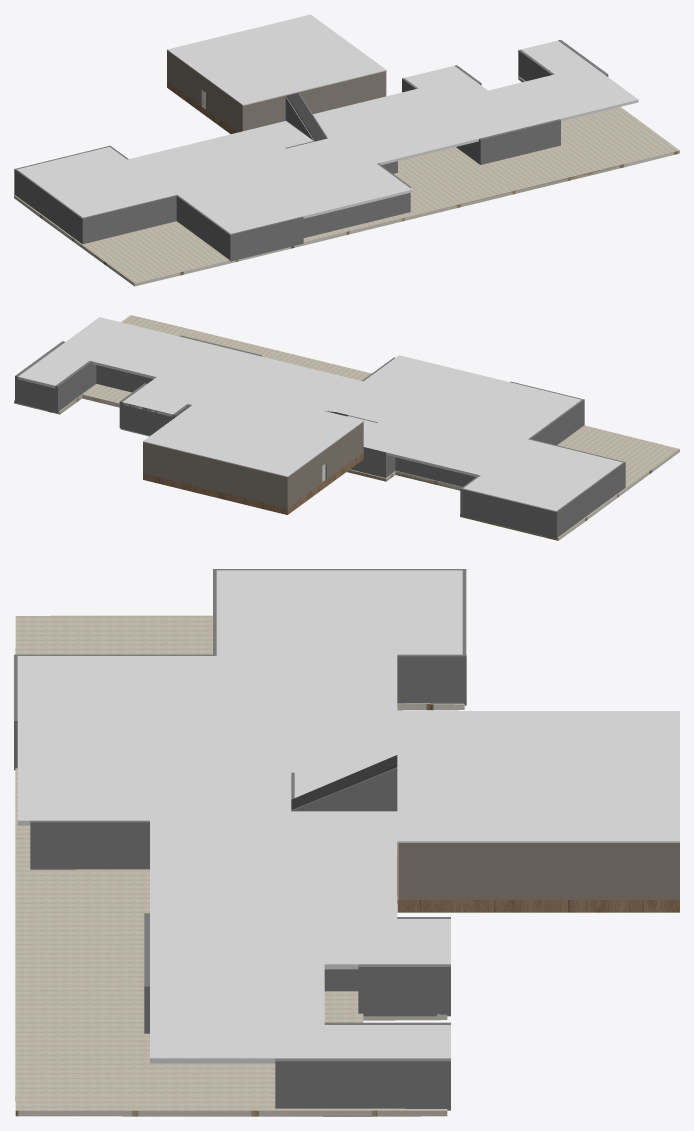
The model's file is olanleveleviskelettexture.fbx.
3 renders of one model, top to bottom at view 1: azimuth 30°, elevation 25°; view 2: azimuth 150°, elevation 25°; view 3: azimuth 270°, elevation 25°, orthographic. The views are drawn at different scales.
Parts seen in each view (by area): view 1: asma tavan bodrum, bodrum yer, framedeğil.003, tavan ev, Ev duvarlar, merd üstü, yer ev; view 2: asma tavan bodrum, framedeğil.003, tavan ev, bodrum yer, Ev duvarlar, yer ev; view 3: asma tavan bodrum, bodrum yer, tavan ev, framedeğil.003, Ev duvarlar, yer ev, merd üstü.
Part boxes in pixels (<box>): asma tavan bodrum: <box>17,40,638,233</box>; bodrum yer: <box>14,76,679,286</box>; framedeğil.003: <box>14,40,608,261</box>; tavan ev: <box>167,14,386,105</box>; Ev duvarlar: <box>167,50,386,132</box>; merd üstü: <box>286,93,326,141</box>; yer ev: <box>167,81,236,133</box>; asma tavan bodrum: <box>18,317,622,510</box>; framedeğil.003: <box>15,335,625,538</box>; tavan ev: <box>143,385,363,477</box>; bodrum yer: <box>14,315,679,540</box>; Ev duvarlar: <box>143,422,363,508</box>; yer ev: <box>143,452,363,514</box>; asma tavan bodrum: <box>17,570,462,1063</box>; bodrum yer: <box>15,615,464,1116</box>; tavan ev: <box>397,711,679,842</box>; framedeğil.003: <box>14,569,466,1110</box>; Ev duvarlar: <box>399,843,679,899</box>; yer ev: <box>397,843,679,912</box>; merd üstü: <box>291,755,397,809</box>.
Size of the model in its own units: 17541 by 1700 by 9968.
